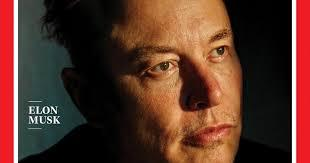Persons: (42, 1, 255, 163)
